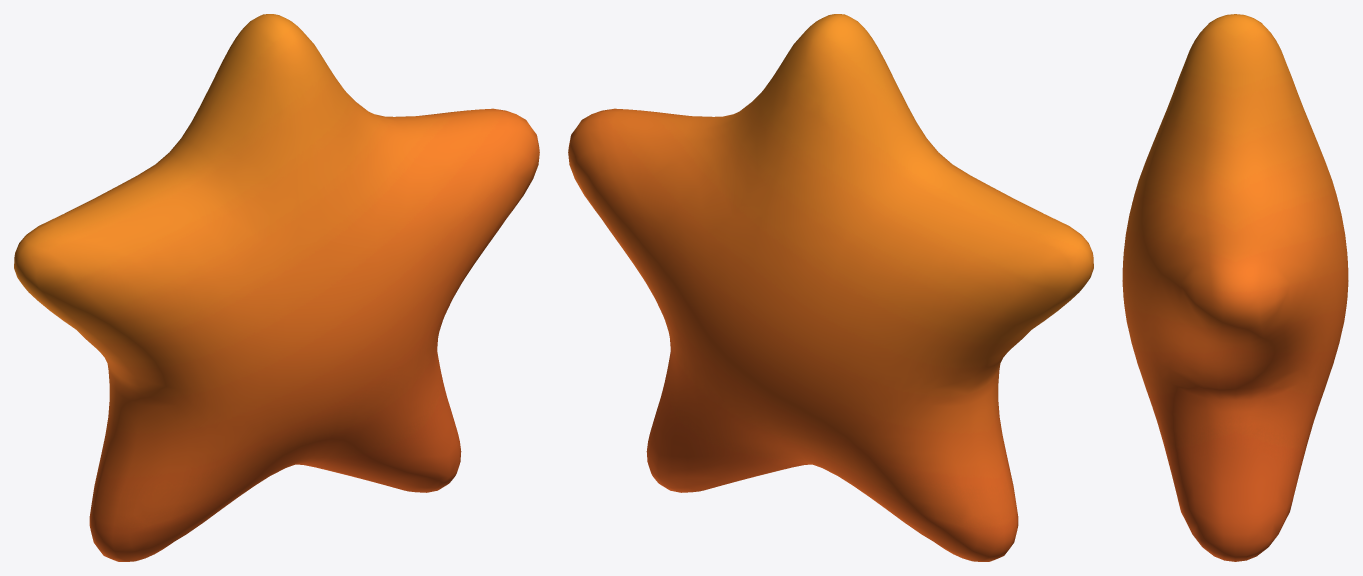
The model's file is GoldStar 1.fbx.
The picture shows the model from 3 angles, left to right: view 1: azimuth 30°, elevation 25°; view 2: azimuth 150°, elevation 25°; view 3: azimuth 270°, elevation 25°; orthographic projection. The views are drawn at different scales.
Visible parts, largest first — view 1: node_id112; view 2: node_id112; view 3: node_id112.
Part boxes in pixels (bbox=[...]): node_id112: bbox=[14, 14, 539, 561]; node_id112: bbox=[568, 14, 1093, 561]; node_id112: bbox=[1122, 14, 1348, 561].
Bounding box in the file's own units: 0.512 × 0.4799 × 0.2075.
Materials: 1 (1 with a texture image).
